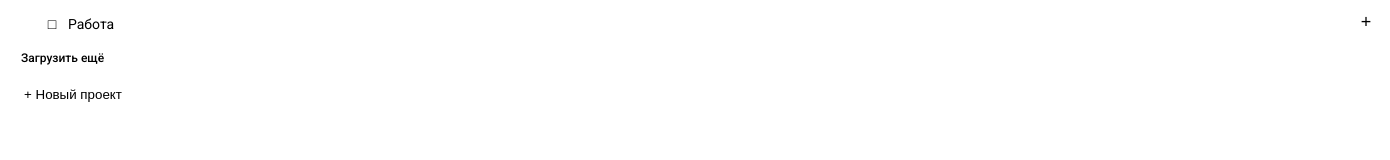
NavigationTree › не отправляет cursor совместимого endpoint обратно в navigation API
Expected: the link "Работа" is shown, [68, 16, 114, 32]
Click the button "Загрузить ещё". click: (63, 58)
box: [12, 47, 113, 69]
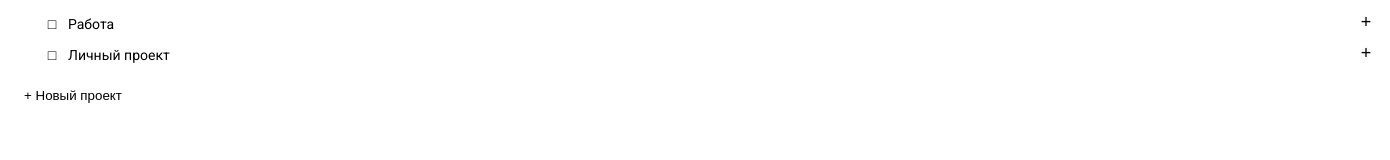
Expected: the link "Личный проект" is shown, [68, 47, 170, 63]
